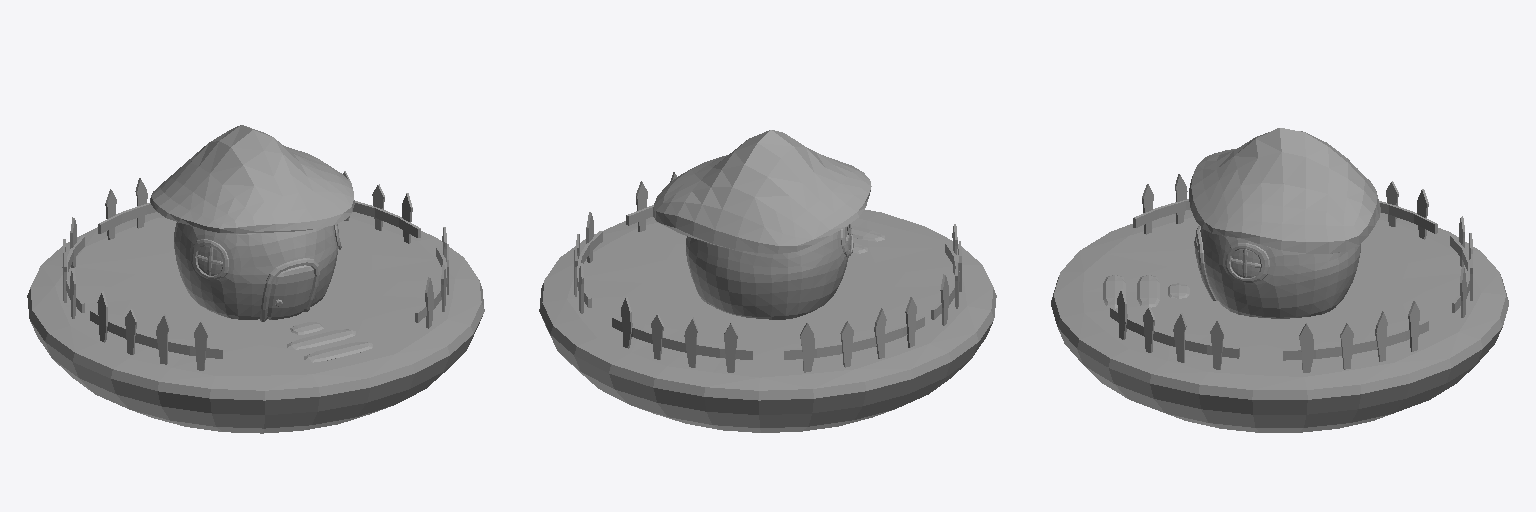
File: house.obj
3 views of the same model, side by side, from view 1: azimuth 30°, elevation 25°; view 2: azimuth 150°, elevation 25°; view 3: azimuth 270°, elevation 25° (orthographic).
Parts seen in each view (by area): view 1: Mushroom_House_HyperNURBS_Group_Terrain, Mushroom_House_HyperNURBS_Group_Roof, Mushroom_House_HyperNURBS_Group_Wall, Mushroom_House_HyperNURBS_Group_Door, Mushroom_House_HyperNURBS_Group_Rock, Mushroom_House_Enclosure_Legno_Arco2, Mushroom_House_HyperNURBS_Group_Door_Bow, Mushroom_House_Enclosure3_Legno_Arco1, Mushroom_House_HyperNURBS_Group_Window1, Mushroom_House_Enclosure2_Legno_Arco3; view 2: Mushroom_House_HyperNURBS_Group_Terrain, Mushroom_House_HyperNURBS_Group_Roof, Mushroom_House_HyperNURBS_Group_Wall, Mushroom_House_Enclosure2_Legno_Arco3, Mushroom_House_Enclosure1_Legno_Arco4, Mushroom_House_Enclosure1_Legno_Arco4_Palletti_di_legno_21; view 3: Mushroom_House_HyperNURBS_Group_Terrain, Mushroom_House_HyperNURBS_Group_Roof, Mushroom_House_HyperNURBS_Group_Wall, Mushroom_House_HyperNURBS_Group_Rock, Mushroom_House_Enclosure3_Legno_Arco1, Mushroom_House_Enclosure4_Legno_Arco, Mushroom_House_HyperNURBS_Group_Window1, Mushroom_House_Enclosure1_Legno_Arco4, Mushroom_House_Enclosure_Legno_Arco2, Mushroom_House_Enclosure3_Legno_Arco1_Palletti_di_legno_23.
Boxes of the visible parts, box(x1,y1,x2,y2) form: Mushroom_House_HyperNURBS_Group_Terrain: box(27, 212, 484, 433); Mushroom_House_HyperNURBS_Group_Roof: box(150, 125, 354, 233); Mushroom_House_HyperNURBS_Group_Wall: box(174, 222, 337, 319); Mushroom_House_HyperNURBS_Group_Door: box(267, 265, 314, 319); Mushroom_House_HyperNURBS_Group_Rock: box(287, 322, 372, 362); Mushroom_House_Enclosure_Legno_Arco2: box(90, 310, 222, 358); Mushroom_House_HyperNURBS_Group_Door_Bow: box(260, 258, 319, 321); Mushroom_House_Enclosure3_Legno_Arco1: box(353, 201, 420, 237); Mushroom_House_HyperNURBS_Group_Window1: box(192, 224, 341, 279); Mushroom_House_Enclosure2_Legno_Arco3: box(98, 203, 156, 233); Mushroom_House_HyperNURBS_Group_Terrain: box(539, 209, 996, 432); Mushroom_House_HyperNURBS_Group_Roof: box(653, 130, 871, 253); Mushroom_House_HyperNURBS_Group_Wall: box(686, 230, 848, 319); Mushroom_House_Enclosure2_Legno_Arco3: box(612, 316, 752, 359); Mushroom_House_Enclosure1_Legno_Arco4: box(784, 316, 924, 359); Mushroom_House_Enclosure1_Legno_Arco4_Palletti_di_legno_21: box(800, 323, 814, 372); Mushroom_House_HyperNURBS_Group_Terrain: box(1051, 210, 1508, 432); Mushroom_House_HyperNURBS_Group_Roof: box(1189, 128, 1380, 253); Mushroom_House_HyperNURBS_Group_Wall: box(1200, 227, 1360, 318); Mushroom_House_HyperNURBS_Group_Rock: box(1103, 275, 1189, 308); Mushroom_House_Enclosure3_Legno_Arco1: box(1283, 320, 1428, 360); Mushroom_House_Enclosure4_Legno_Arco: box(1110, 307, 1239, 358); Mushroom_House_HyperNURBS_Group_Window1: box(1225, 243, 1269, 282); Mushroom_House_Enclosure1_Legno_Arco4: box(1379, 201, 1437, 233); Mushroom_House_Enclosure_Legno_Arco2: box(1133, 199, 1190, 227); Mushroom_House_Enclosure3_Legno_Arco1_Palletti_di_legno_23: box(1299, 323, 1313, 372).
Size of the model in its own units: 3.76 by 2.31 by 3.79.